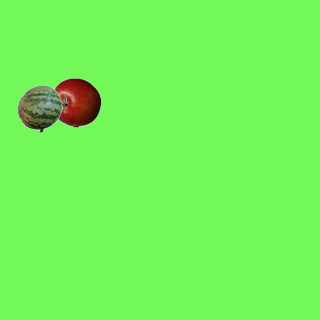Apple Braeburn: (50, 77, 100, 127)
Watermelon: (16, 83, 66, 133)
